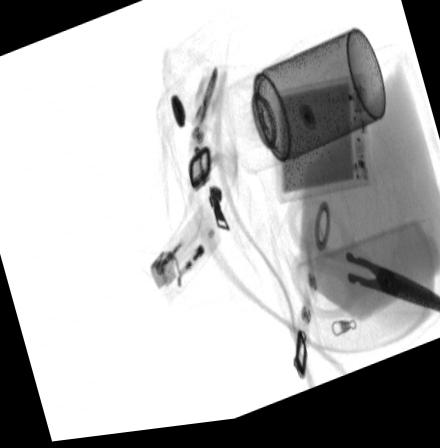Lighter: (149, 199, 229, 309)
Powerbank: (264, 76, 371, 211)
Scissors: (287, 195, 440, 333)
Sprayer: (217, 33, 386, 180)
